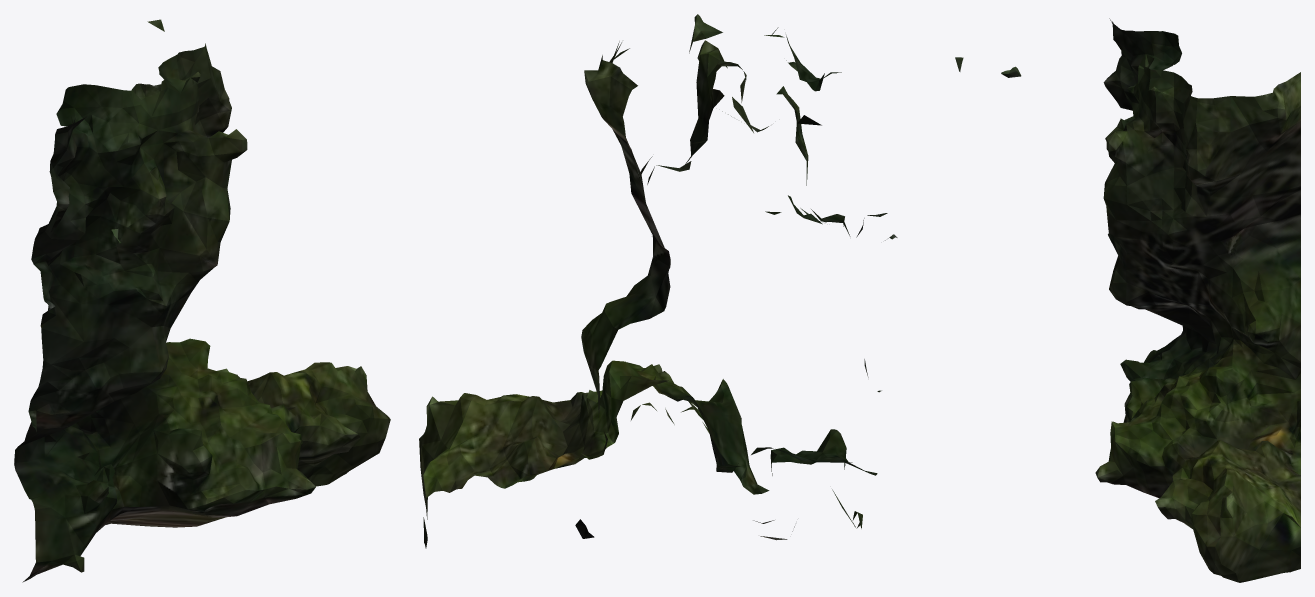
3 views of the same model, side by side, from view 1: azimuth 30°, elevation 25°; view 2: azimuth 150°, elevation 25°; view 3: azimuth 270°, elevation 25° (orthographic). The views are drawn at different scales.
Bounding box in the file's own units: 1.43 × 1.67 × 1.1.
Materials: 3 (3 with a texture image).
